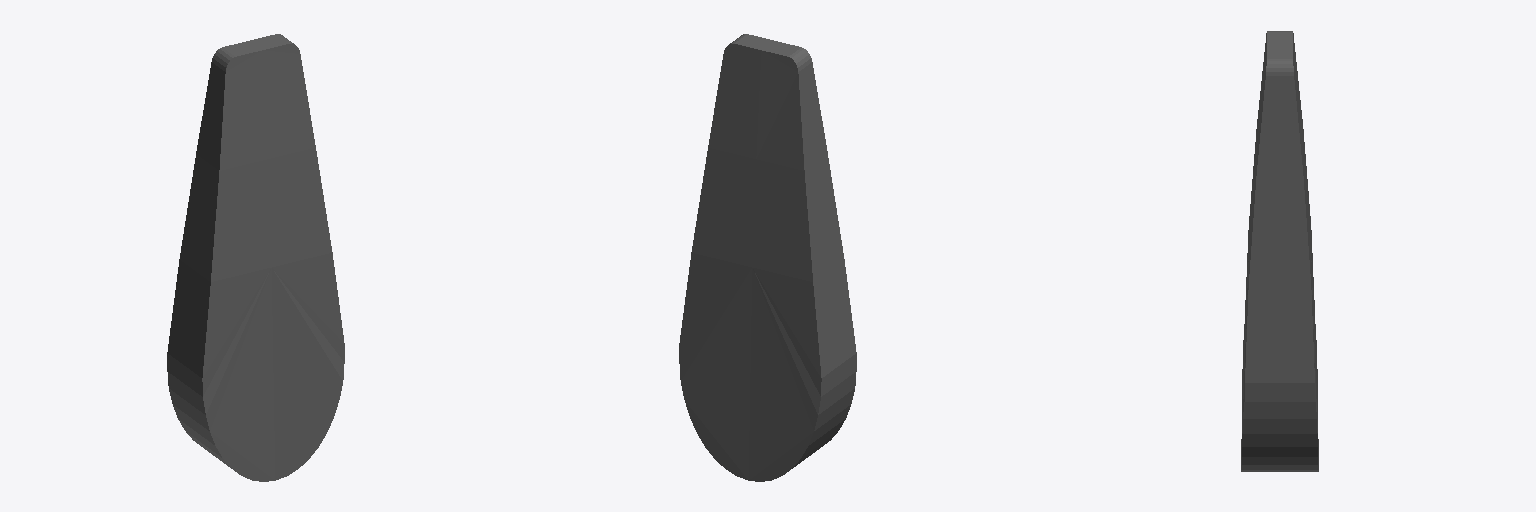
3 views of the same model, side by side, from view 1: azimuth 30°, elevation 25°; view 2: azimuth 150°, elevation 25°; view 3: azimuth 270°, elevation 25° (orthographic).
Parts seen in each view (by area): view 1: manija_anim_Cube.019; view 2: manija_anim_Cube.019; view 3: manija_anim_Cube.019.
Boxes of the visible parts, x1=… form: manija_anim_Cube.019: x1=167, y1=34, x2=344, y2=481; manija_anim_Cube.019: x1=679, y1=34, x2=856, y2=481; manija_anim_Cube.019: x1=1241, y1=31, x2=1318, y2=471.
Bounding box in the file's own units: 0.0536 × 0.1515 × 0.0253.
Materials: 1 (1 with a texture image).